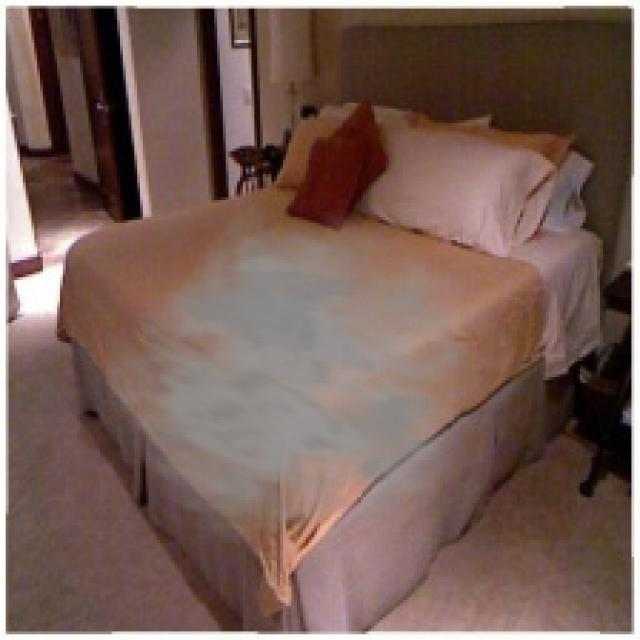smoke: (103, 197, 520, 543)
